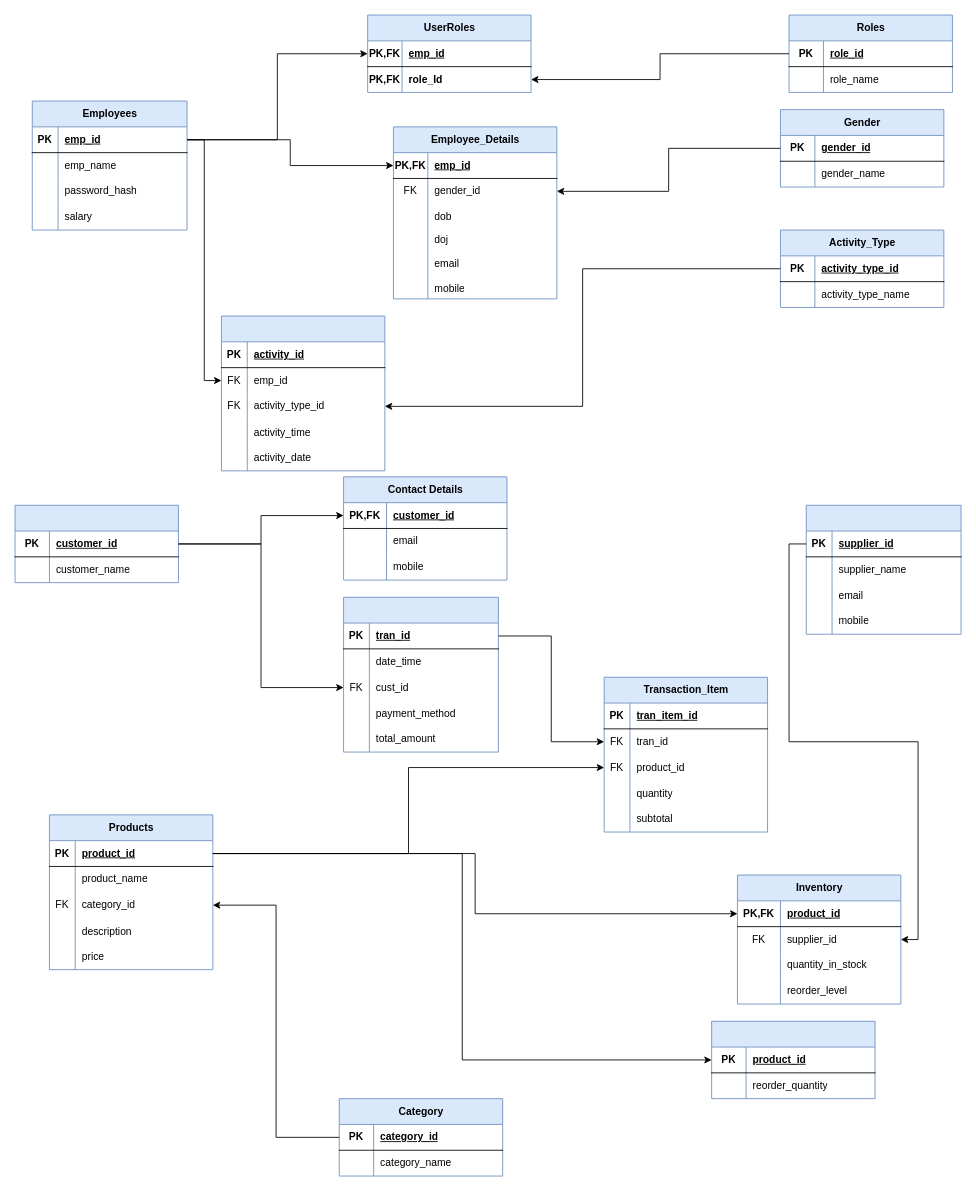
Image size: 976x1191. Some labels were removed from this diagram. Here are the shapes that lost their labels. From the top down, the box of each, then its label:
(221, 315, 385, 471): Activities
(14, 504, 178, 583): Customers
(805, 504, 961, 634): Suppliers
(343, 596, 498, 752): Transactions
(711, 1020, 875, 1099): to_reorder
